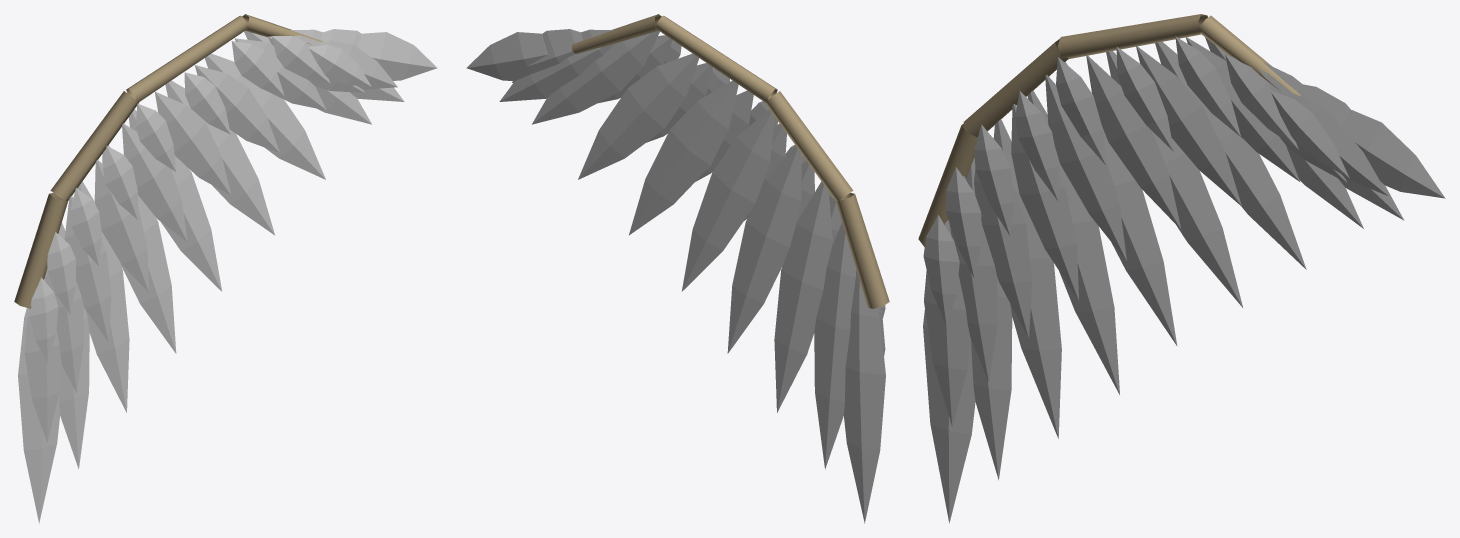
The model's file is ville_cos_aile_ange.glb.
3 views of the same model, side by side, from view 1: azimuth 30°, elevation 25°; view 2: azimuth 150°, elevation 25°; view 3: azimuth 330°, elevation 25° (orthographic). The views are drawn at different scales.
Parts seen in each view (by area): view 1: cos_aile_ange; view 2: cos_aile_ange; view 3: cos_aile_ange.
Boxes of the visible parts, x1=… form: cos_aile_ange: x1=14, y1=14, x2=437, y2=523; cos_aile_ange: x1=466, y1=14, x2=889, y2=523; cos_aile_ange: x1=918, y1=14, x2=1445, y2=523.
Size of the model in its own units: 1.5 by 1.56 by 0.081.
